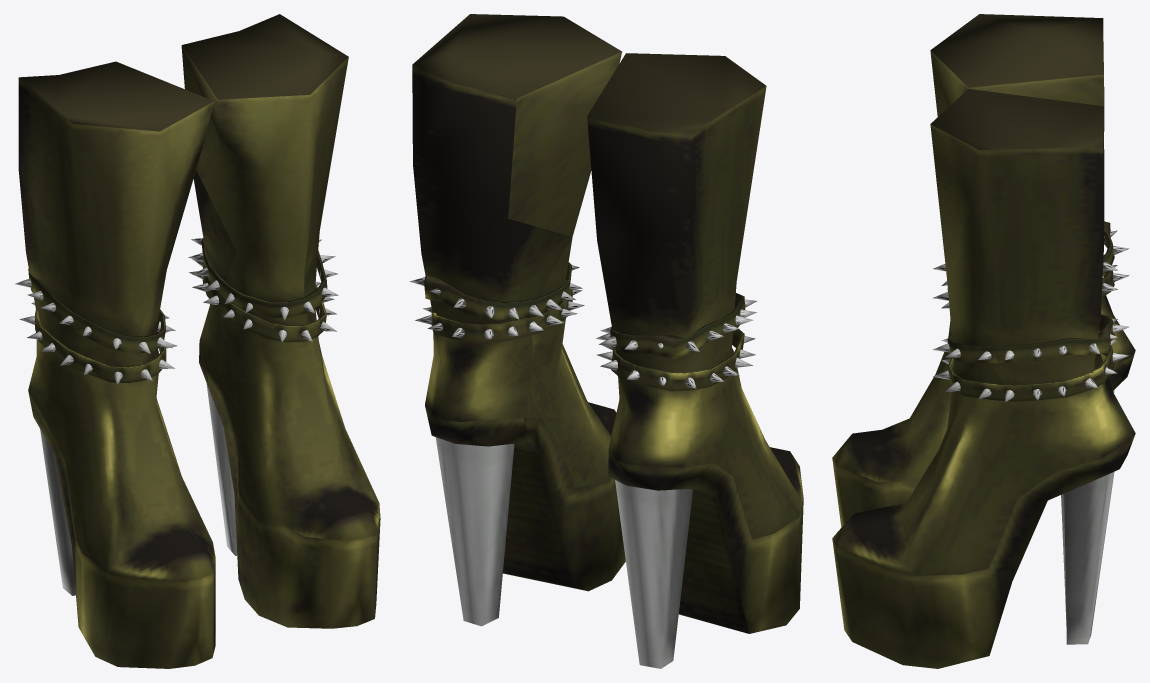
Rendered from SpikedHeels_Ground.fbx.
The picture shows the model from 3 angles, left to right: view 1: azimuth 30°, elevation 25°; view 2: azimuth 150°, elevation 25°; view 3: azimuth 270°, elevation 25°; orthographic projection. The views are drawn at different scales.
Visible parts, largest first — view 1: SpikedHeels; view 2: SpikedHeels; view 3: SpikedHeels.
Part boxes in pixels (x1,y1,x2,y2): SpikedHeels: (15, 14, 380, 668); SpikedHeels: (409, 14, 803, 668); SpikedHeels: (832, 14, 1135, 668).
Size of the model in its own units: 0.1198 by 0.2099 by 0.1106.
